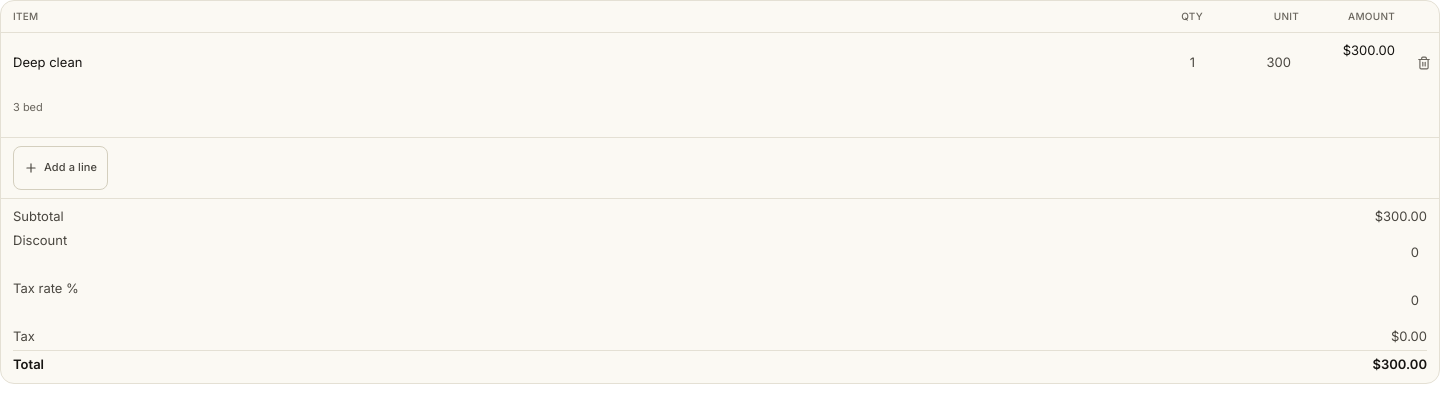
Escape abandons a cell without saving
Click the button "300" at (1259, 63), box top-left (1223, 41), bottom-right (1295, 85)
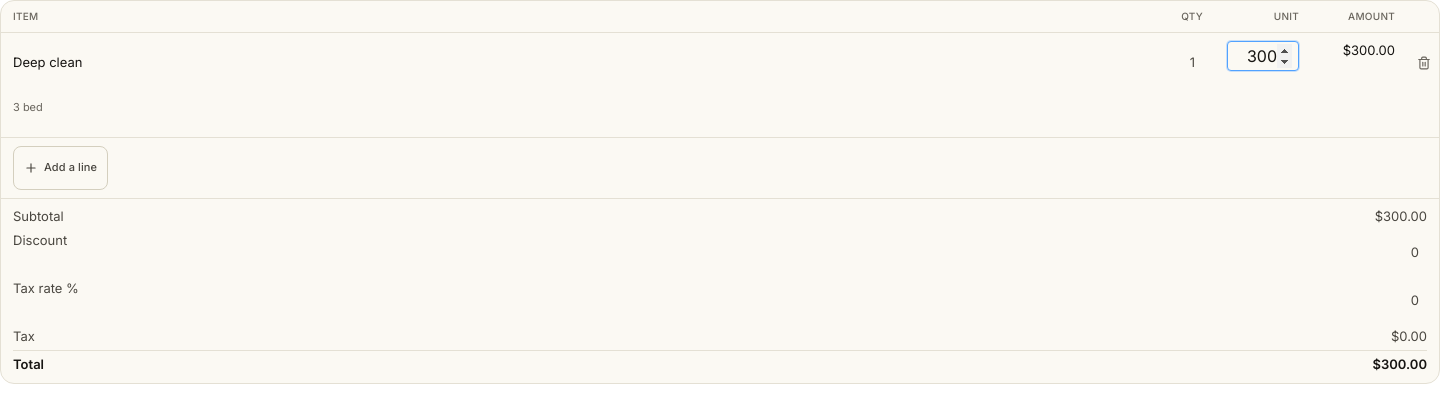
Replace the text in the number field with "999" at (1263, 56), box top-left (1227, 41), bottom-right (1299, 71)
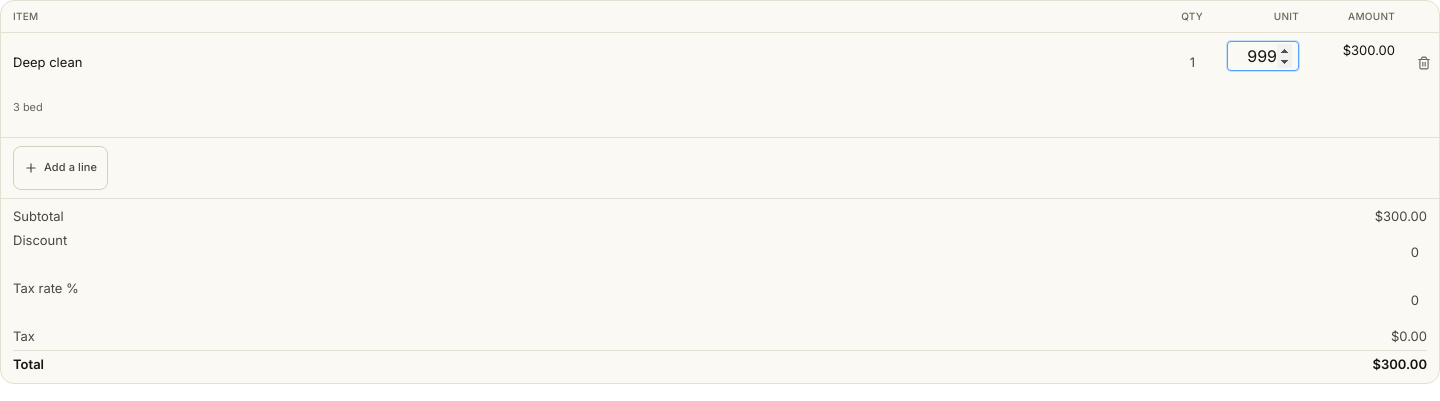
Press Escape in the number field, box top-left (1227, 41), bottom-right (1299, 71)
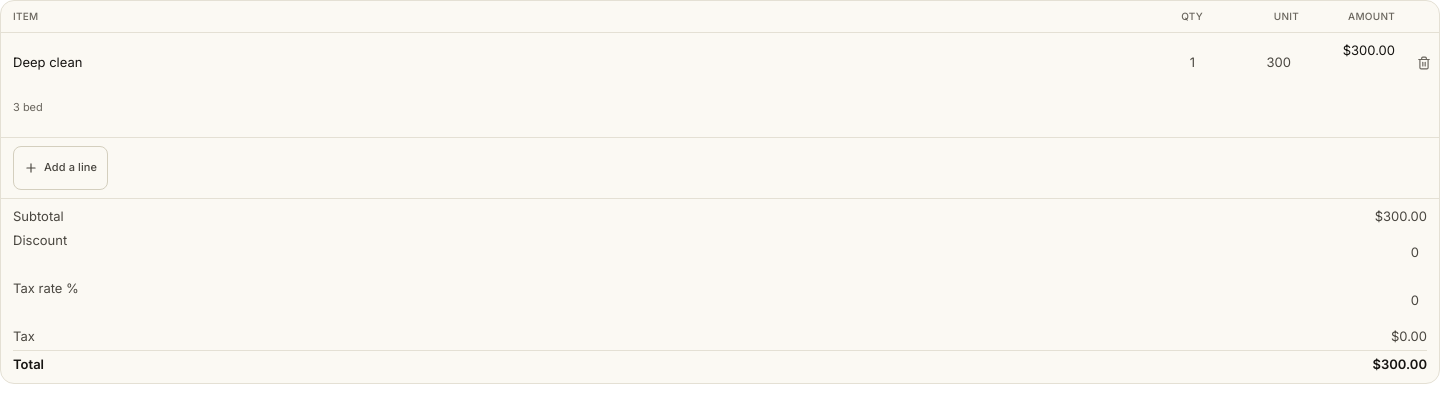
expect the button "300" is shown: met, box top-left (1223, 41), bottom-right (1295, 85)
